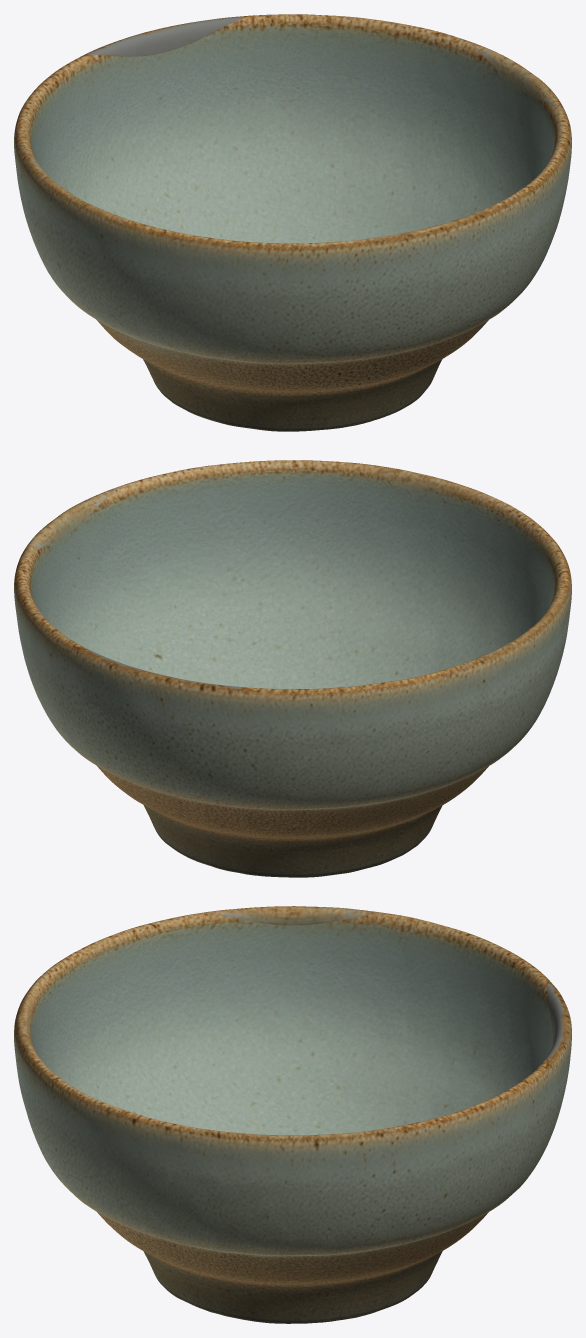
File: bertom_ceramic_mold.glb
3 views of the same model, one above another, from view 1: azimuth 30°, elevation 25°; view 2: azimuth 150°, elevation 25°; view 3: azimuth 270°, elevation 25° (orthographic).
Size of the model in its own units: 1.9 by 0.9202 by 1.9.
Materials: 1 (1 with a texture image).
